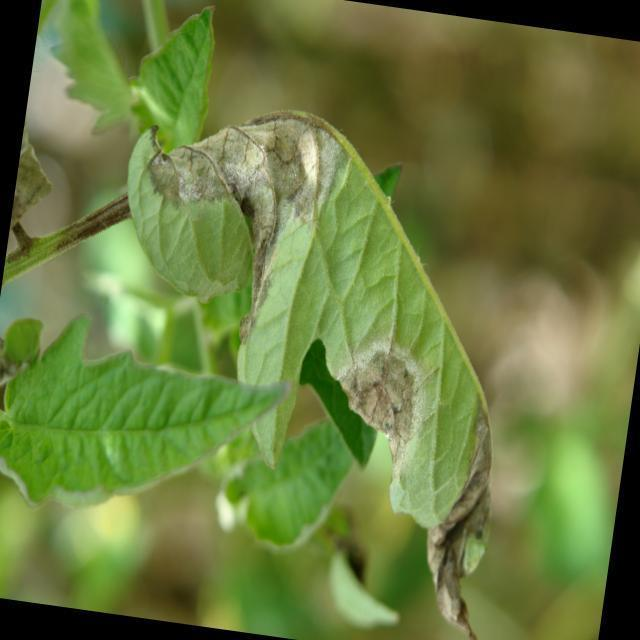Healthy Leaf: (0, 328, 294, 542)
